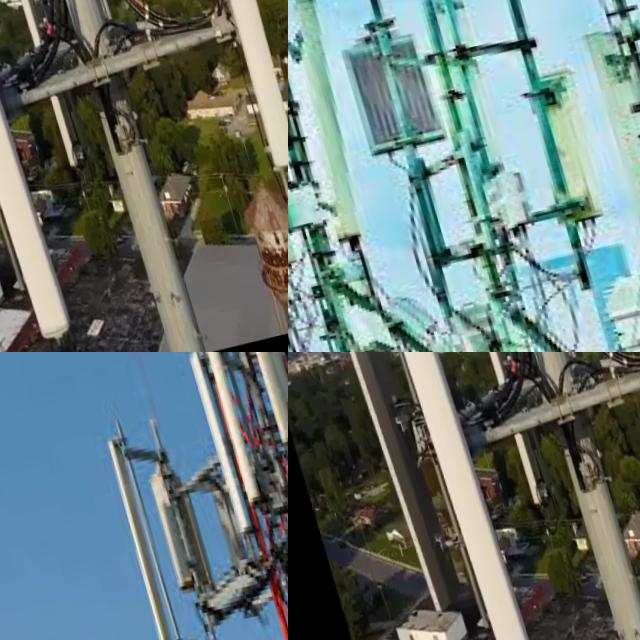GSM Antenna: (358, 352, 531, 640), (295, 352, 463, 628), (288, 0, 388, 251), (0, 0, 67, 352), (166, 0, 288, 178), (91, 430, 180, 640), (449, 352, 549, 513), (169, 352, 263, 517), (521, 62, 604, 248), (0, 0, 85, 171), (180, 352, 249, 546), (136, 453, 202, 625), (195, 352, 288, 467), (499, 352, 573, 408)
Microwave Antenna: (608, 0, 640, 71)
